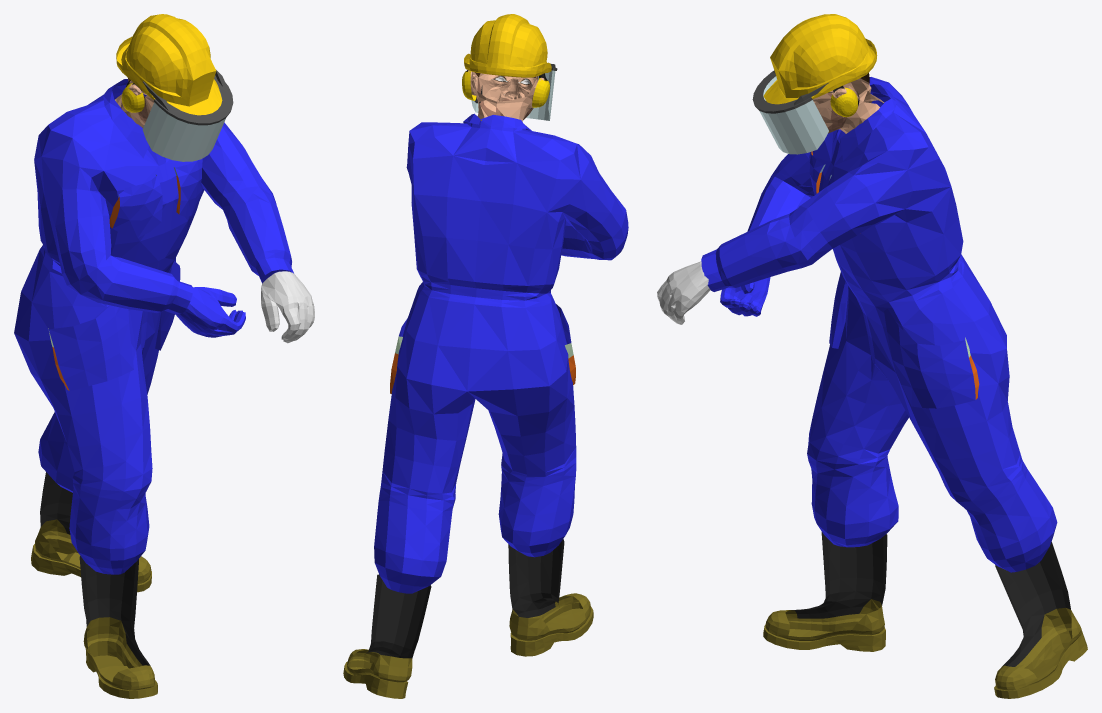
File: colaborador.glb
The picture shows the model from 3 angles, left to right: view 1: azimuth 30°, elevation 25°; view 2: azimuth 150°, elevation 25°; view 3: azimuth 270°, elevation 25°; orthographic projection. The views are drawn at different scales.
Visible parts, largest first — view 1: _(Loose Entity); view 2: _(Loose Entity); view 3: _(Loose Entity).
Boxes of the visible parts, x1,y1,x2,y2 form: _(Loose Entity): [14, 14, 314, 698]; _(Loose Entity): [343, 14, 628, 698]; _(Loose Entity): [657, 14, 1087, 698].
Size of the model in its own units: 0.5408 by 1.63 by 0.9769.
